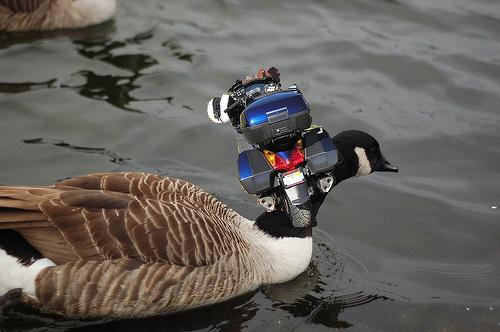tampered: (208, 68, 344, 227)
